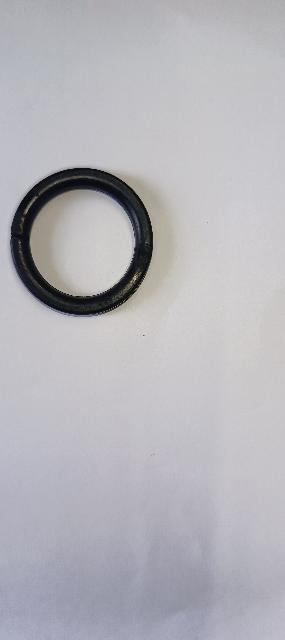scratch: (8, 229, 33, 245)
